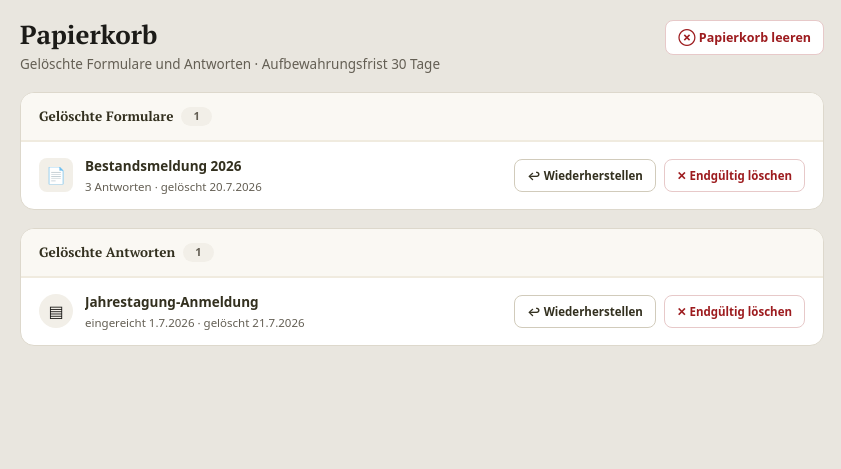
Test: TrashView › mit canPurge › says a second run changes nothing when everything left is what failed
Check: the text "Bestandsmeldung 2026" is shown, box [85,157,242,175]
What coordinates should you click on to do the following:
click the button "⊗ Papierkorb leeren"
I would click on:
 (745, 38)
Its box is [665,20,824,55].
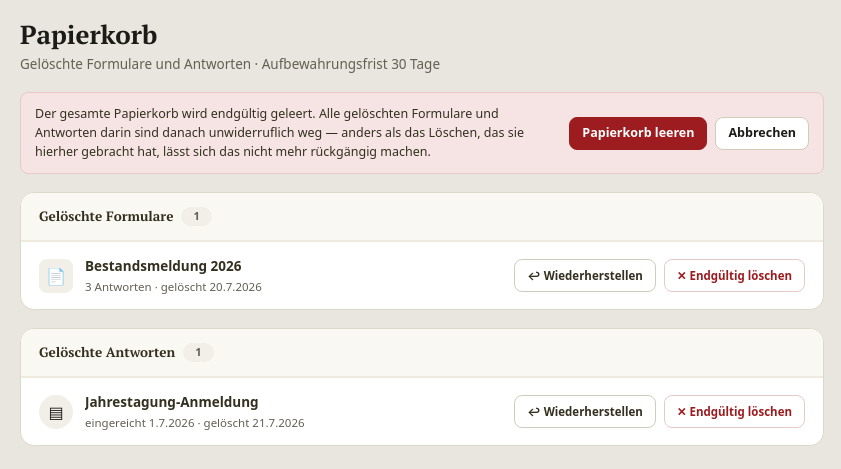
What coordinates should you click on to do the following:
click the button "Papierkorb leeren"
I would click on:
 (638, 133)
Its box is [569,117,707,150].
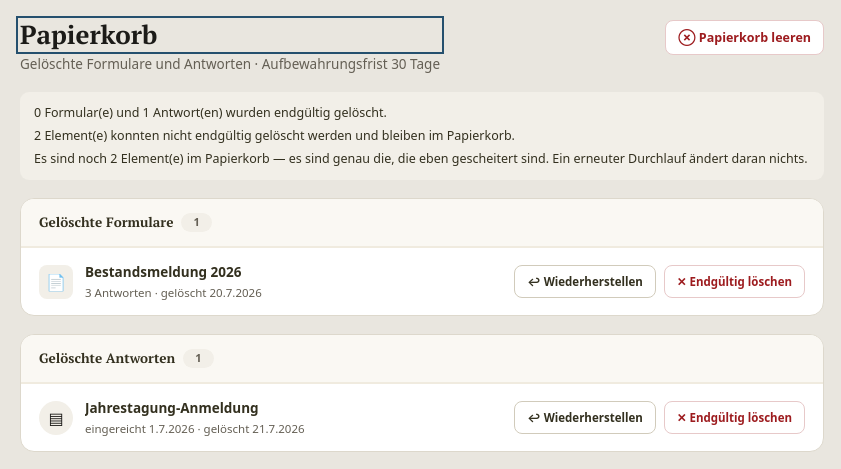
Check: the message with test id "trash-empty-result" is shown, box [20,92,824,180]
Check: the text with test id "trash-empty-remaining" shows "ändert daran nichts", box [34,150,808,167]
